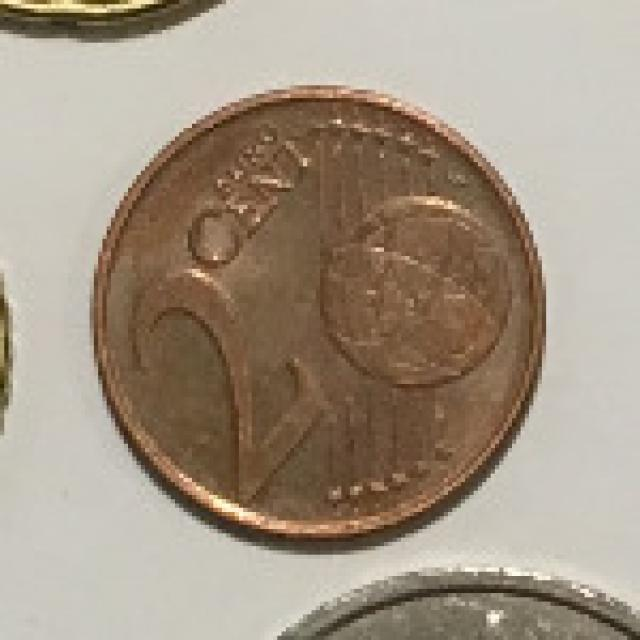2c: (85, 86, 555, 550)
